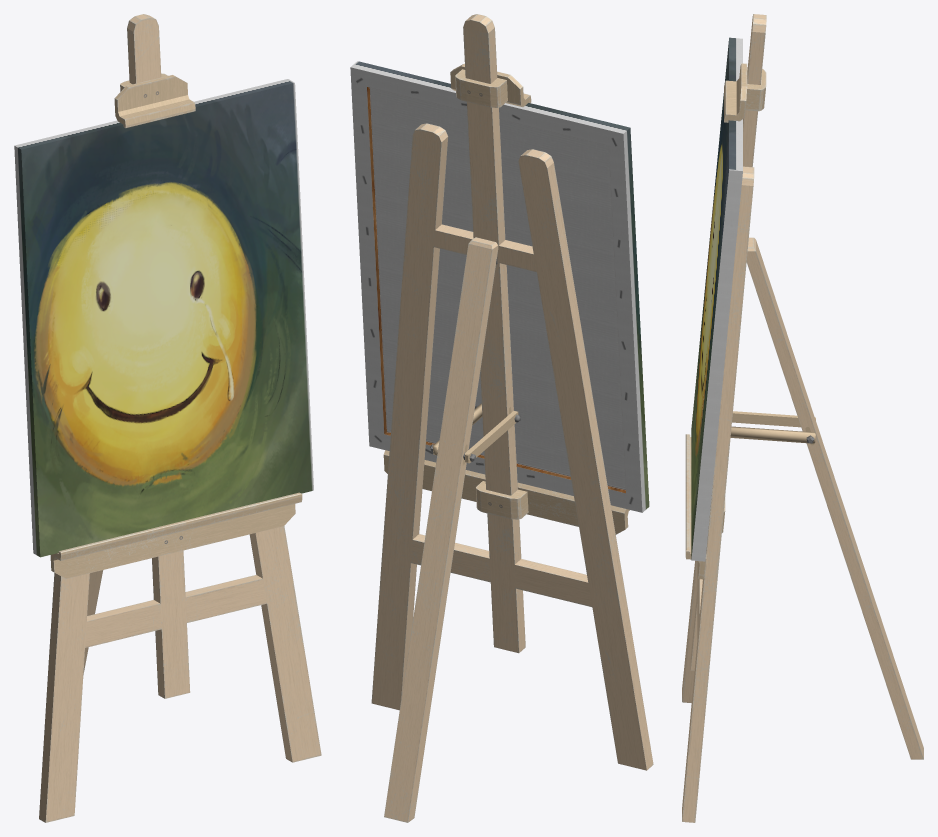
Rendered from artist_easel.obj.
3 views of the same model, side by side, from view 1: azimuth 30°, elevation 25°; view 2: azimuth 150°, elevation 25°; view 3: azimuth 270°, elevation 25° (orthographic).
Visible parts, largest first — view 1: artist_easel_0, artist_easel_1; view 2: artist_easel_1, artist_easel_0; view 3: artist_easel_1, artist_easel_0.
Boxes of the visible parts, x1,y1,x2,y2 form: artist_easel_0: [14, 79, 313, 557]; artist_easel_1: [39, 14, 321, 822]; artist_easel_1: [371, 14, 653, 822]; artist_easel_0: [350, 61, 649, 512]; artist_easel_1: [682, 14, 923, 822]; artist_easel_0: [691, 37, 742, 561].
Size of the model in its own units: 0.8217 by 2.12 by 0.6276.
2 materials, 2 textured.
